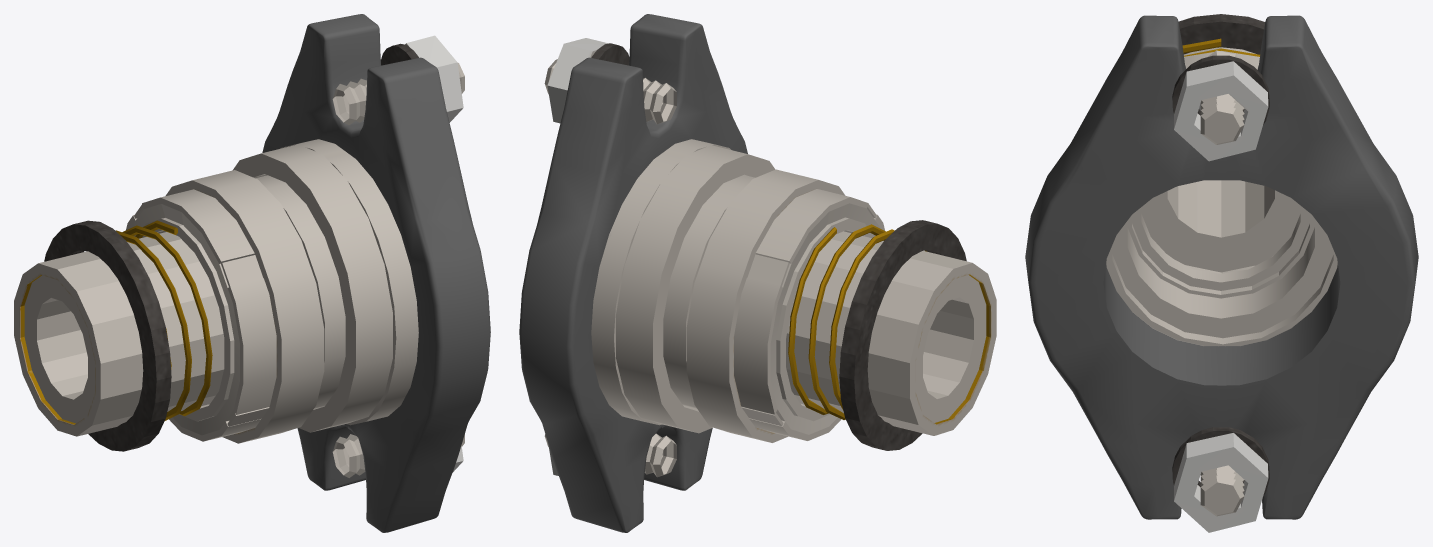
File: Pump@MechanicalSeal.fbx
3 views of the same model, side by side, from view 1: azimuth 30°, elevation 25°; view 2: azimuth 150°, elevation 25°; view 3: azimuth 270°, elevation 25° (orthographic). The views are drawn at different scales.
Parts seen in each view (by area): view 1: MechanicalSeal.001; view 2: MechanicalSeal.001; view 3: MechanicalSeal.001.
Boxes of the visible parts, x1=… form: MechanicalSeal.001: x1=14, y1=14, x2=490, y2=532; MechanicalSeal.001: x1=519, y1=14, x2=996, y2=532; MechanicalSeal.001: x1=1025, y1=14, x2=1418, y2=532.
Size of the model in its own units: 56.75 by 61.93 by 45.96.
